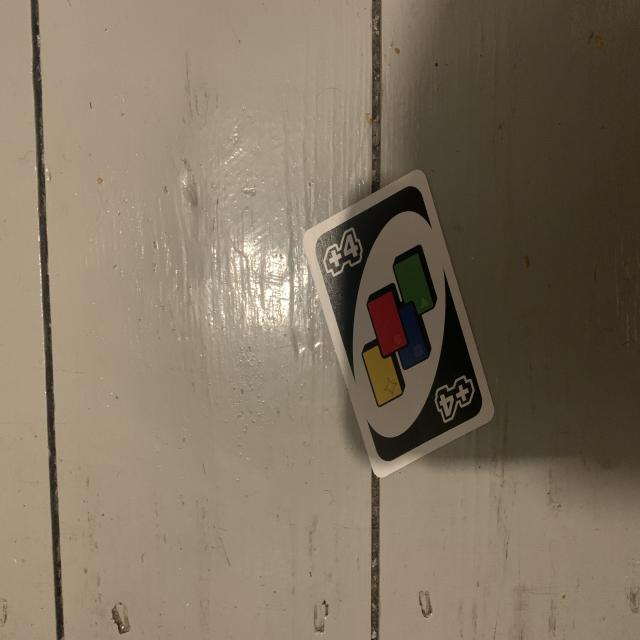lcolor-400: (317, 220, 374, 286)
